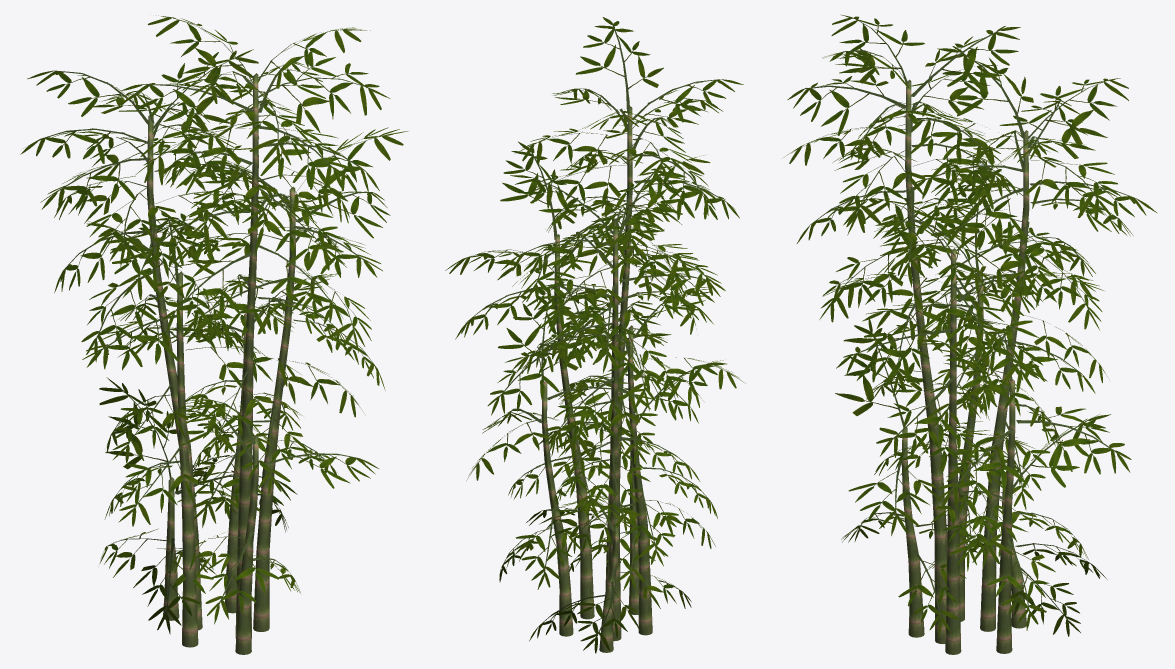
Rendered from bamboo_clump.glb.
3 renders of one model, left to right at view 1: azimuth 30°, elevation 25°; view 2: azimuth 150°, elevation 25°; view 3: azimuth 270°, elevation 25°, orthographic. The views are drawn at different scales.
Visible parts, largest first — view 1: bamboo_clump; view 2: bamboo_clump; view 3: bamboo_clump.
Part boxes in pixels (x1,y1,x2,y2): bamboo_clump: (20,15,408,654); bamboo_clump: (445,17,745,653); bamboo_clump: (783,14,1157,654).
Size of the model in its own units: 4.74 by 8.5 by 4.81.
2 materials, 2 textured.
